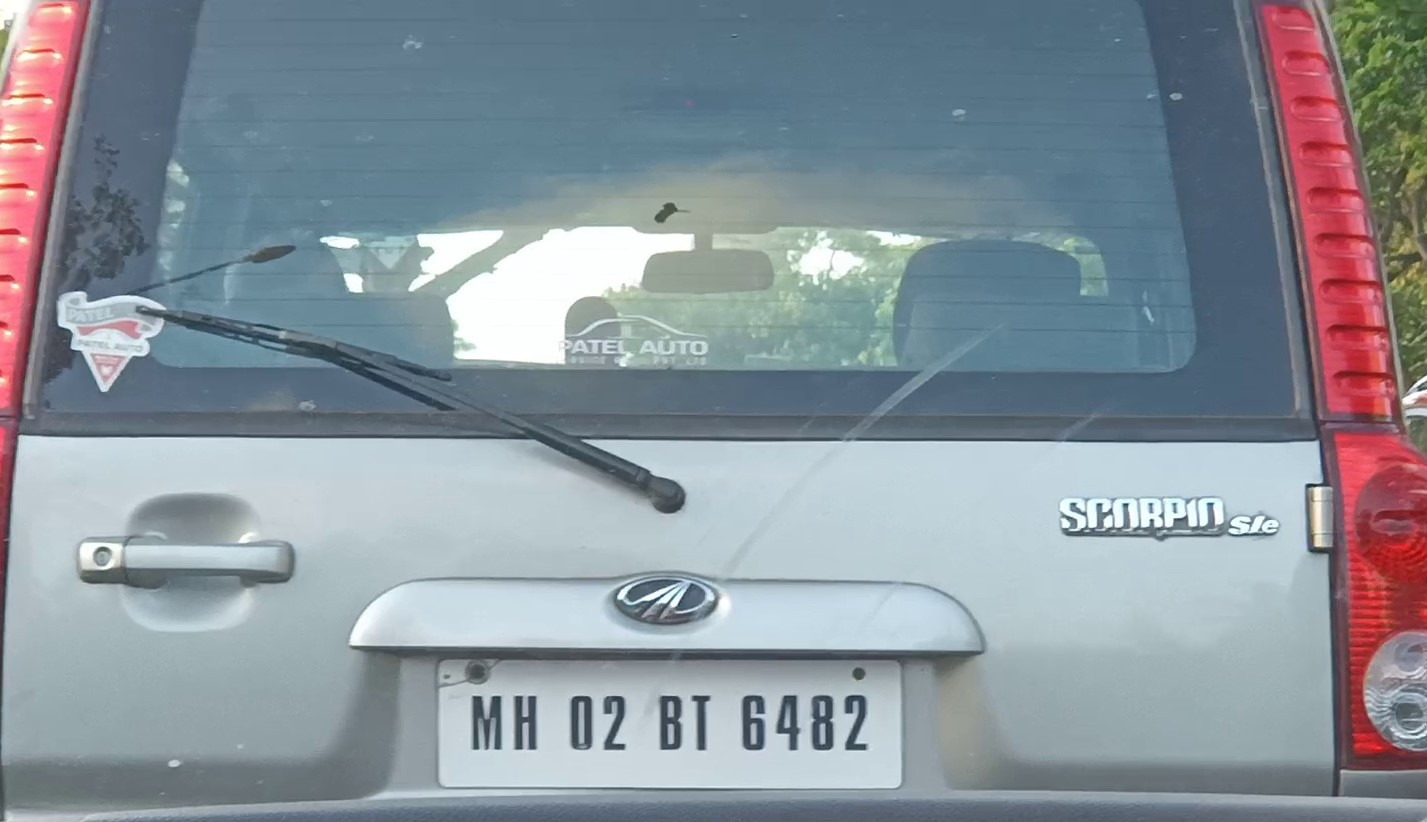MH02BT6482: (434, 655, 904, 793)
